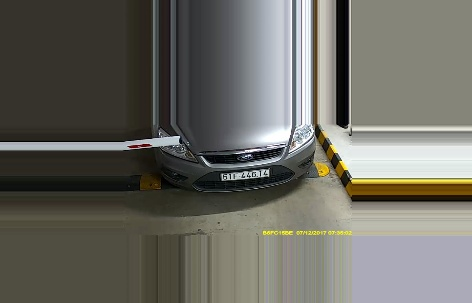plate: (218, 168, 271, 182)
